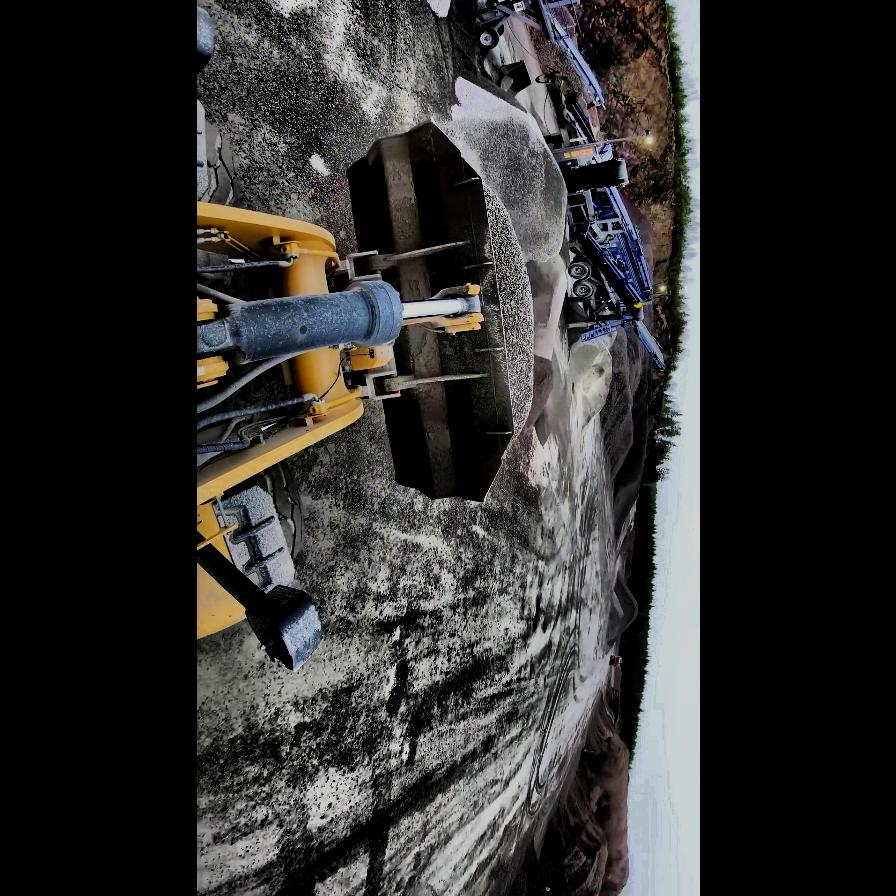anchor: (400, 282, 485, 334)
pile of gravel: (443, 76, 581, 448), (531, 678, 633, 896), (526, 259, 570, 437), (612, 372, 652, 512), (572, 340, 614, 424), (612, 572, 638, 636), (618, 525, 636, 579)
